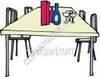bottle: (52, 2, 62, 26), (48, 5, 55, 23)
chair: (4, 6, 33, 61), (73, 12, 98, 62), (23, 6, 35, 20), (77, 9, 87, 23)
diningtable: (1, 5, 99, 76)
